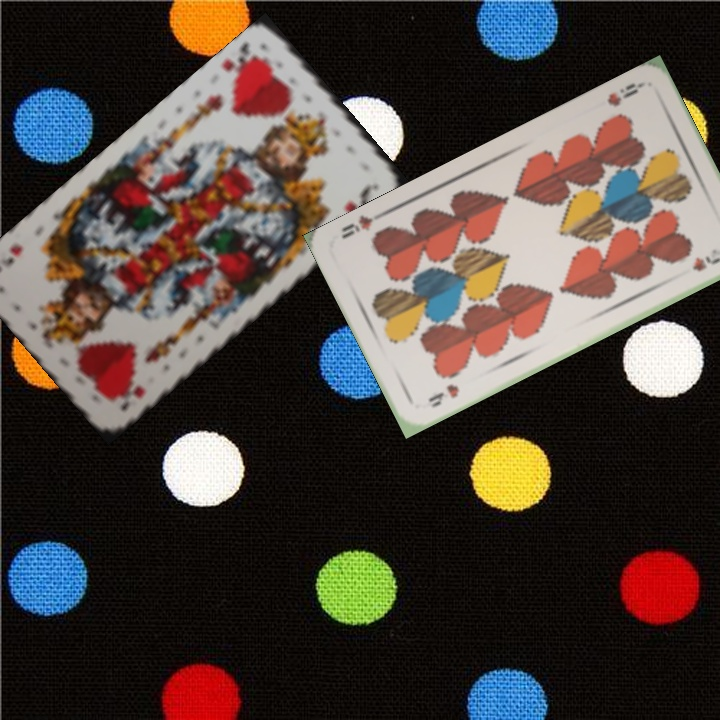H9: (603, 79, 646, 110), (423, 380, 462, 411)
HK: (218, 38, 263, 86), (107, 378, 148, 414)
